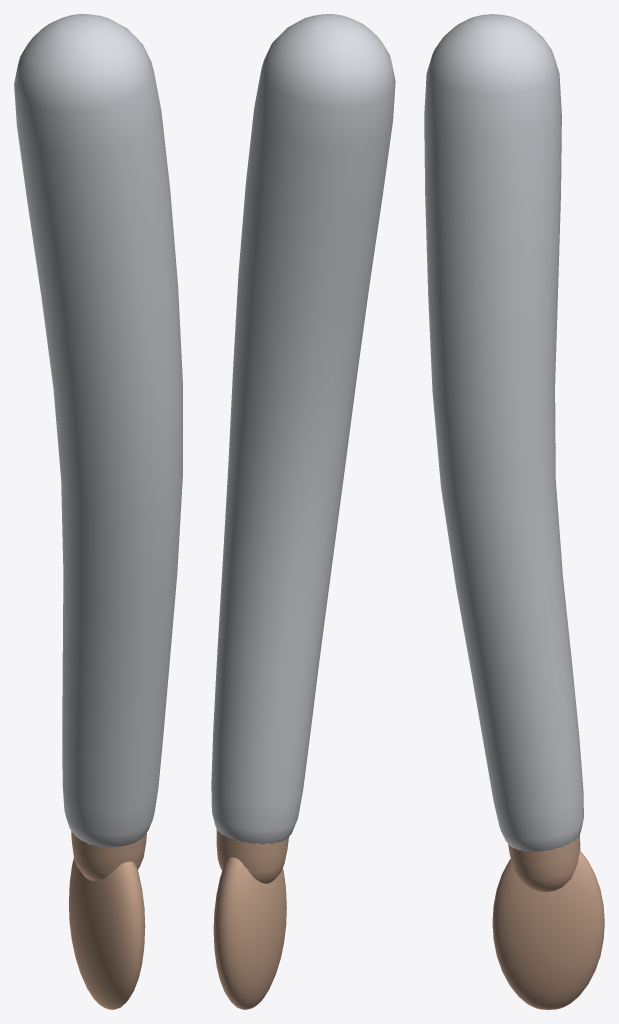
File: linh_tay_phai.glb
3 renders of one model, left to right at view 1: azimuth 30°, elevation 25°; view 2: azimuth 150°, elevation 25°; view 3: azimuth 270°, elevation 25°, orthographic. The views are drawn at different scales.
Visible parts, largest first — view 1: linh_tay_phai; view 2: linh_tay_phai; view 3: linh_tay_phai.
Boxes of the visible parts, x1=… form: linh_tay_phai: x1=14, y1=14, x2=182, y2=1009; linh_tay_phai: x1=211, y1=14, x2=395, y2=1009; linh_tay_phai: x1=424, y1=14, x2=604, y2=1009.
Bounding box in the file's own units: 0.1064 × 0.6711 × 0.1138.
